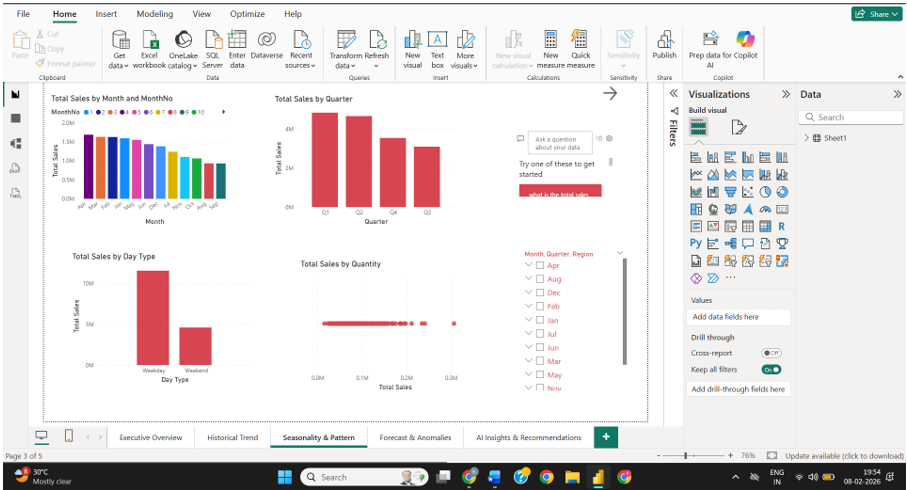

The page's visual inventory and layout, read from the dashboard file:
{"tool":"powerbi","page":{"name":"Seasonality & Pattern","canvas":[1280,720],"ordinal":2},"visuals":[{"type":"columnChart","fields":{"Category":["Sheet1.Month"],"Y":["Sheet1.Total Sales"],"Series":["Sheet1.MonthNo"]},"box":[10.5,24.9,390,284],"z":0},{"type":"columnChart","fields":{"Category":["Sheet1.Quarter"],"Y":["Sheet1.Total Sales"]},"box":[484.3,26.2,391.4,282.7],"z":1000},{"type":"qnaVisual","box":[994.7,79.8,219.9,172.8],"z":2000},{"type":"columnChart","fields":{"Category":["Sheet1.Day Type"],"Y":["Sheet1.Total Sales"]},"box":[55,359.9,390,284],"z":3000},{"type":"scatterChart","fields":{"Category":["Sheet1.Quantity"],"X":["Sheet1.Total Sales"]},"box":[539.3,375.6,390,284],"z":4000},{"type":"slicer","fields":{"Values":["Sheet1.Month","Sheet1.Quarter","Sheet1.Region"]},"box":[1006.5,350.8,234.3,308.9],"z":5000},{"type":"actionButton","box":[1180.6,5.2,70.7,39.3],"z":6000}]}

Visuals, with their boxes on the page's 1280x720 design canvas (x1, y1, x2, y2). These are canvas units, not pixel positions in the 907x490 screenshot, which may show the page scaled, cropped or inside an application window:
columnChart - Sheet1.Month x Sheet1.Total Sales: BBox(10, 25, 400, 309)
columnChart - Sheet1.Quarter x Sheet1.Total Sales: BBox(484, 26, 876, 309)
qnaVisual: BBox(995, 80, 1215, 253)
columnChart - Sheet1.Day Type x Sheet1.Total Sales: BBox(55, 360, 445, 644)
scatterChart - Sheet1.Quantity x Sheet1.Total Sales: BBox(539, 376, 929, 660)
slicer - Sheet1.Month x Sheet1.Quarter: BBox(1006, 351, 1241, 660)
actionButton: BBox(1181, 5, 1251, 44)
